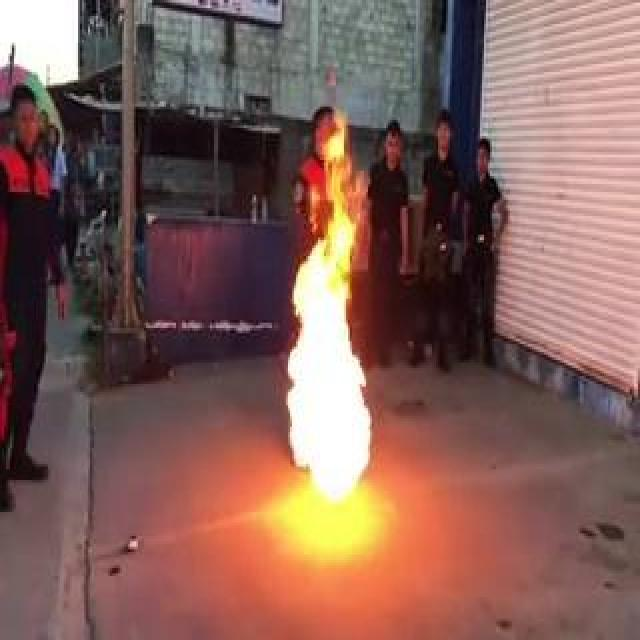Fire: (282, 130, 370, 507)
